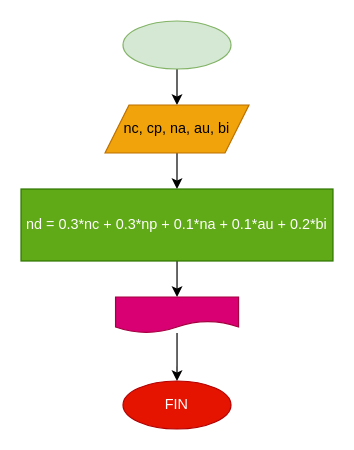
Some shapes in this 354 by 450 pixel diagram are drawn without their labels. The shapes that lost their labels are listed below. From the top down, each one's centre as x and y in pixels, then its label:
At [176,44]: "INICIO".
At [176,314]: "nd".
